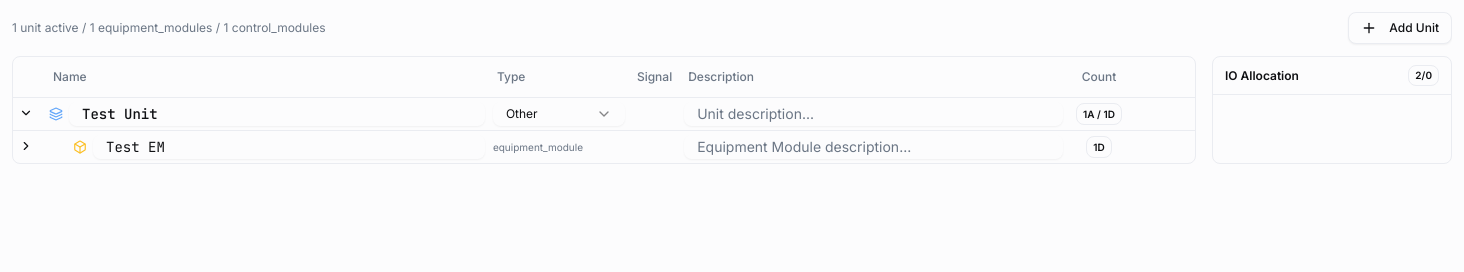
Test: MachineHierarchyTable — G0-1/G0-2 authoring (G0-16 W1) › shows N/C polarity on the fail-safe digital input and no polarity control on the analog row
Click the button named "Expand": (26,146) [17,136,35,154]
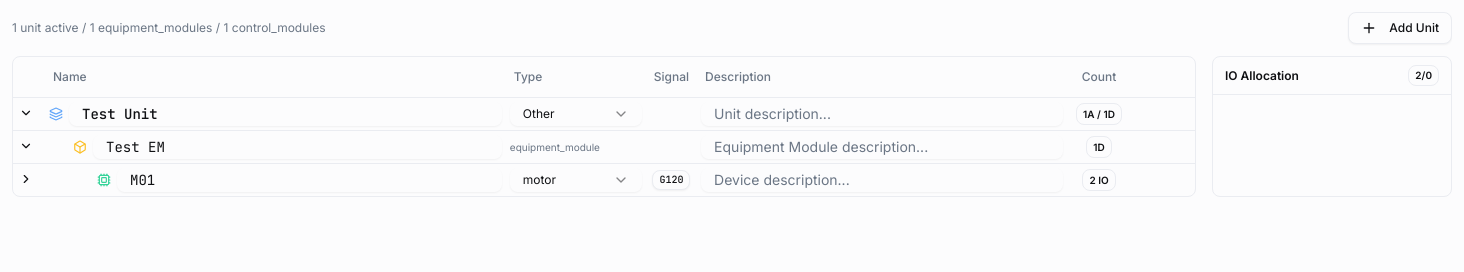
Click the button named "Expand": (26,178) [17,170,35,188]
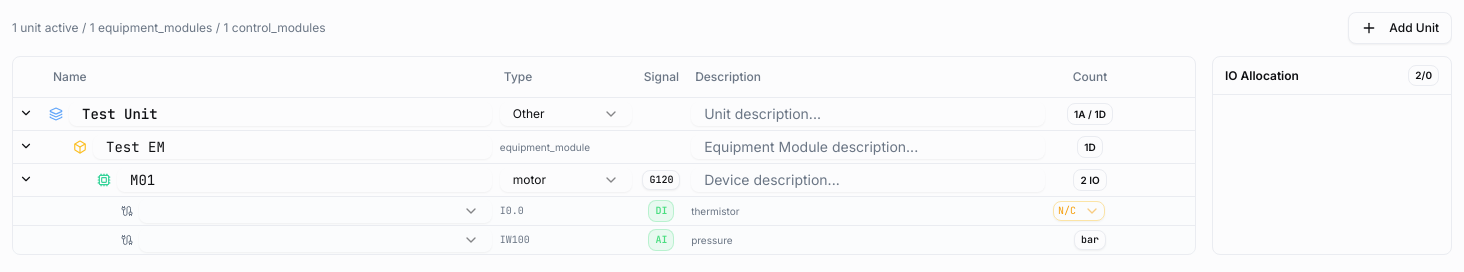
Check: the text "N/C" is shown, box [1058,202,1076,218]
Check: the number of dropdowns named "Wiring polarity" is 1, box [1053,200,1105,220]
